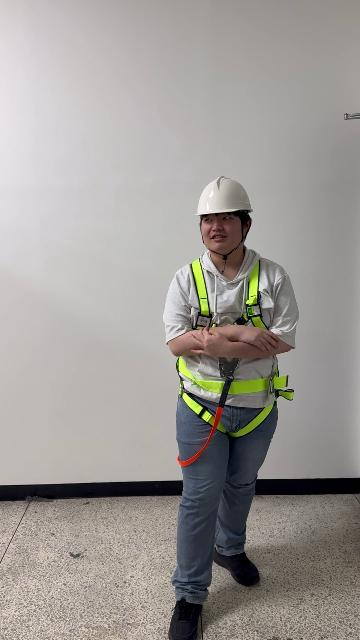helmet_worn: (194, 175, 254, 217)
shoe_not_worn: (213, 547, 258, 586), (168, 596, 202, 639)
vest_worn: (173, 260, 291, 438)
